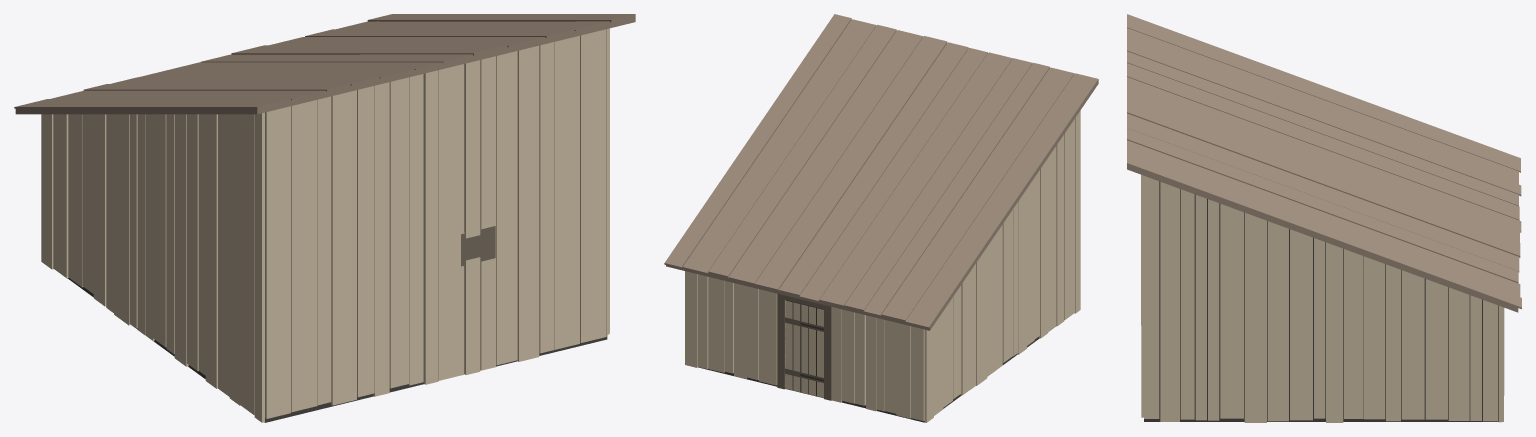
File: recon_1835_blk_school_section_tier_82_d2_01__inferred_1835.glb
3 views of the same model, side by side, from view 1: azimuth 30°, elevation 25°; view 2: azimuth 150°, elevation 25°; view 3: azimuth 270°, elevation 25° (orthographic). The views are drawn at different scales.
Visible parts, largest first — view 1: recon_1835_blk_school_section_tier_82_d2_01__inferred_1835; view 2: recon_1835_blk_school_section_tier_82_d2_01__inferred_1835; view 3: recon_1835_blk_school_section_tier_82_d2_01__inferred_1835.
Boxes of the visible parts, x1,y1,x2,y2 form: recon_1835_blk_school_section_tier_82_d2_01__inferred_1835: (14,14,635,422); recon_1835_blk_school_section_tier_82_d2_01__inferred_1835: (664,14,1098,422); recon_1835_blk_school_section_tier_82_d2_01__inferred_1835: (1127,14,1521,422).
Bounding box in the file's own units: 5.78 × 4.8 × 6.45.
